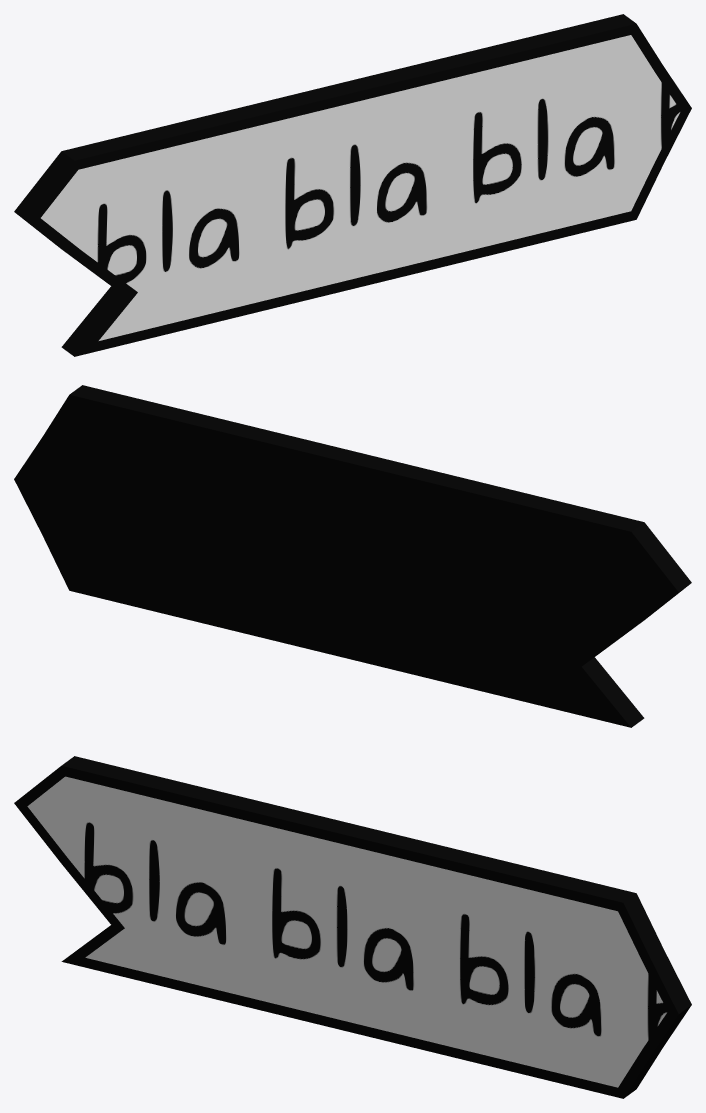
Rendered from mdl_poland_poempieces_2.gltf.
3 views of the same model, one above another, from view 1: azimuth 30°, elevation 25°; view 2: azimuth 150°, elevation 25°; view 3: azimuth 330°, elevation 25° (orthographic).
Parts seen in each view (by area): view 1: Plane.004; view 2: Plane.004; view 3: Plane.004.
Boxes of the visible parts, <box> form: Plane.004: <box>14,14,691,356</box>; Plane.004: <box>14,385,691,727</box>; Plane.004: <box>14,756,691,1098</box>.
Bounding box in the file's own units: 0.8872 × 0.25 × 0.0304.
2 materials, 2 textured.
